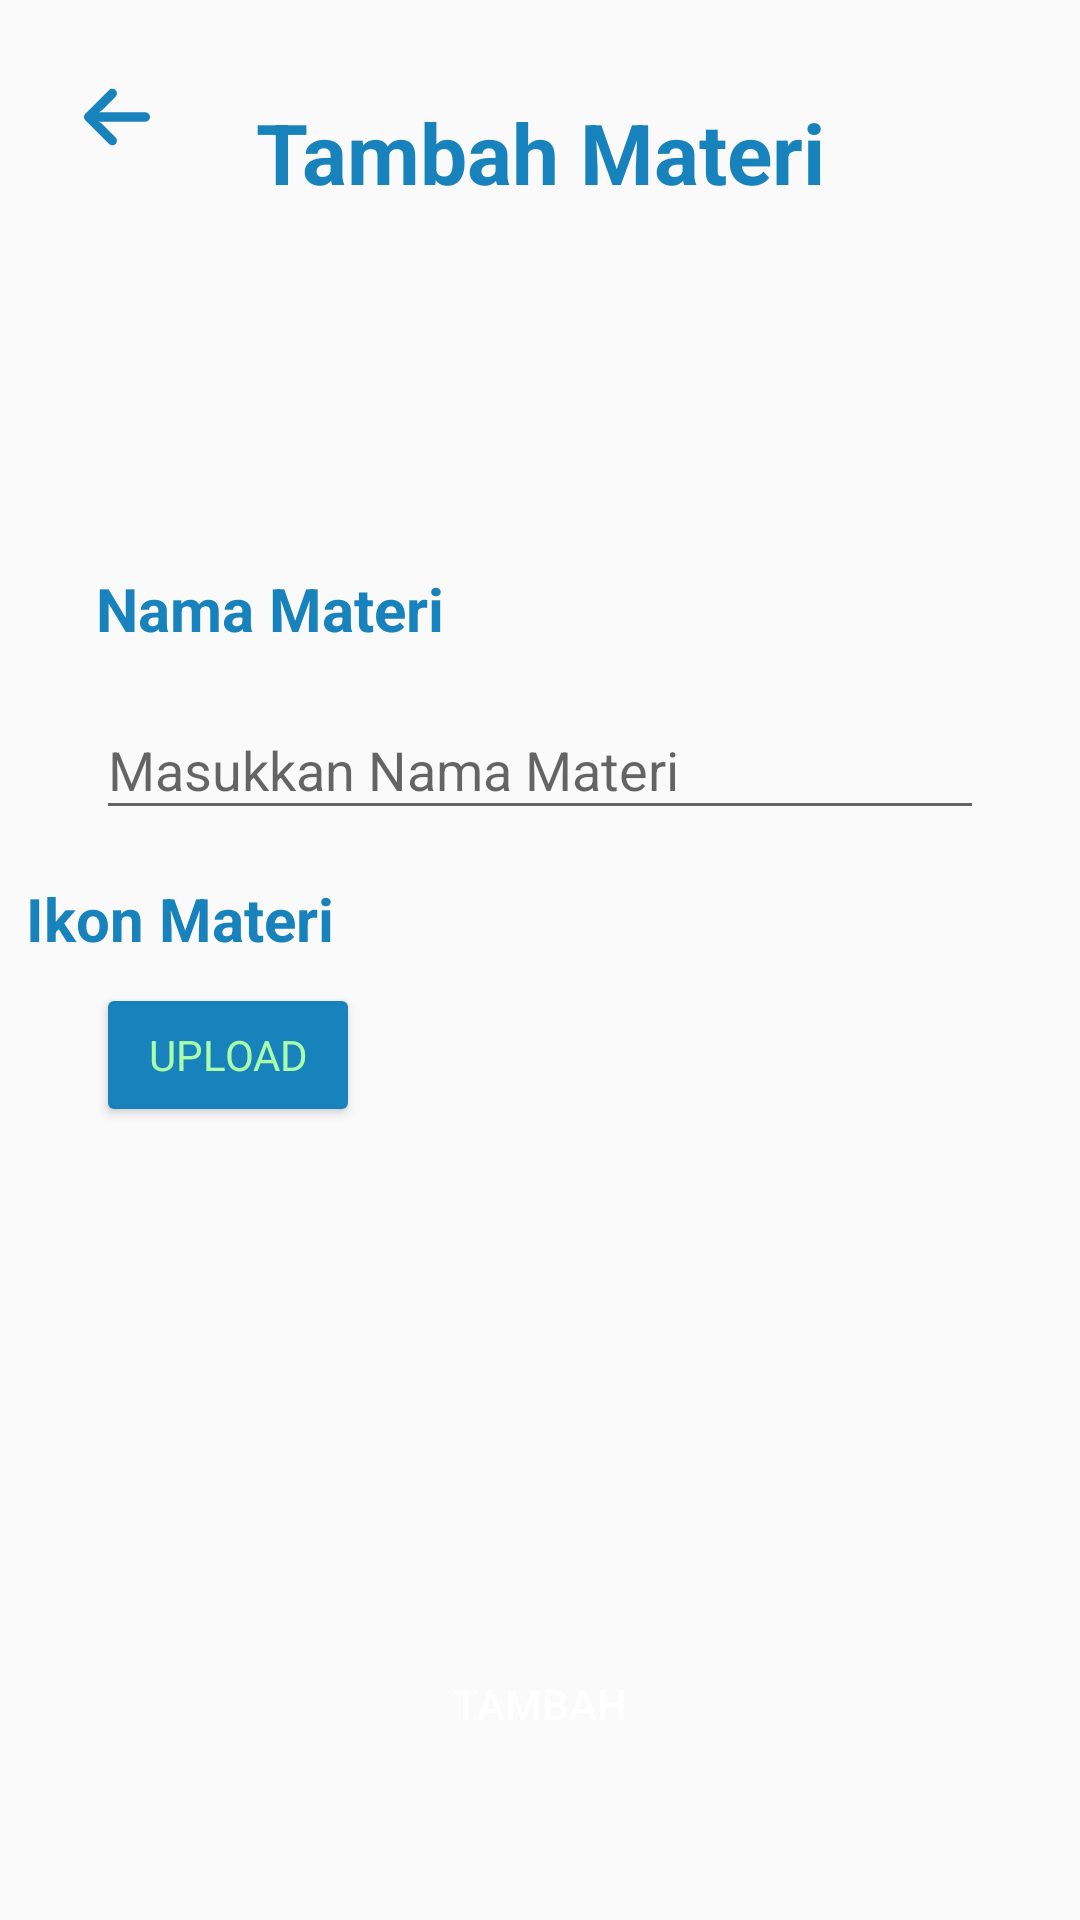

Where to tap for icons on this 1080px×1920px app screen, as [x,y]:
arrow: [117,117]
